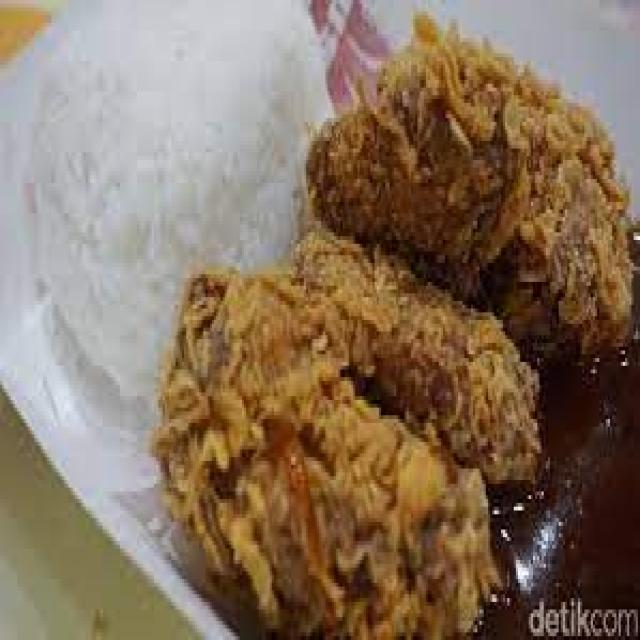Frango: (163, 283, 492, 631), (348, 56, 636, 288)
